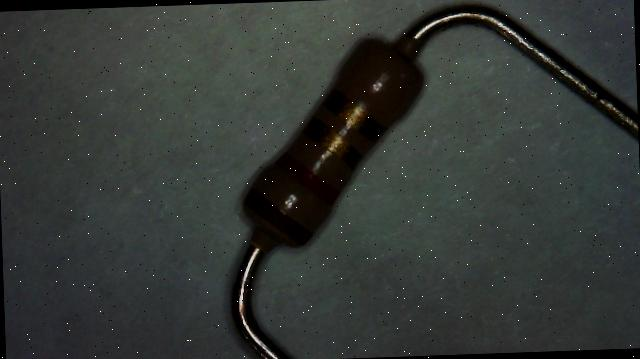brown: (245, 187, 312, 244)
gold: (305, 117, 363, 168), (324, 90, 378, 134)
red: (276, 151, 340, 204)
resistor: (200, 9, 451, 278)
